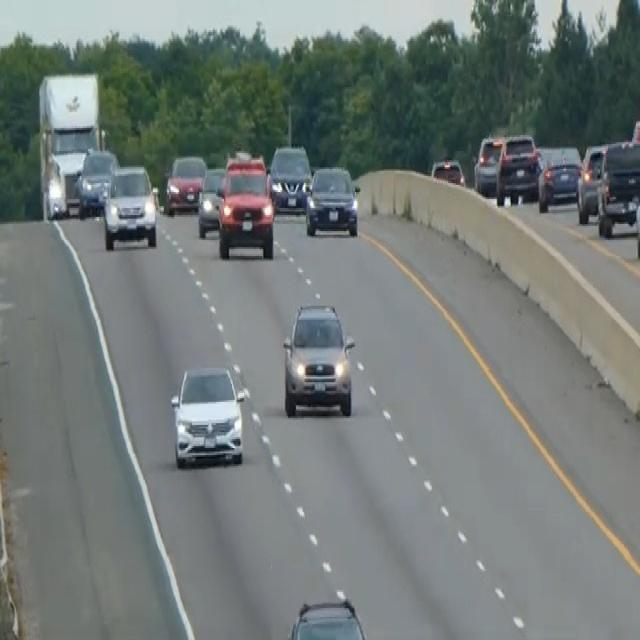car: (169, 361, 246, 467), (216, 154, 275, 260), (102, 162, 158, 249), (596, 137, 639, 236), (304, 162, 359, 236), (286, 596, 368, 638), (495, 130, 541, 204), (537, 142, 582, 212), (268, 142, 311, 214), (75, 146, 118, 218), (163, 151, 206, 215), (575, 140, 607, 222), (196, 164, 225, 238), (473, 134, 503, 196), (430, 154, 465, 187)
jeep: (280, 297, 357, 419)
lorry: (36, 70, 104, 220)
